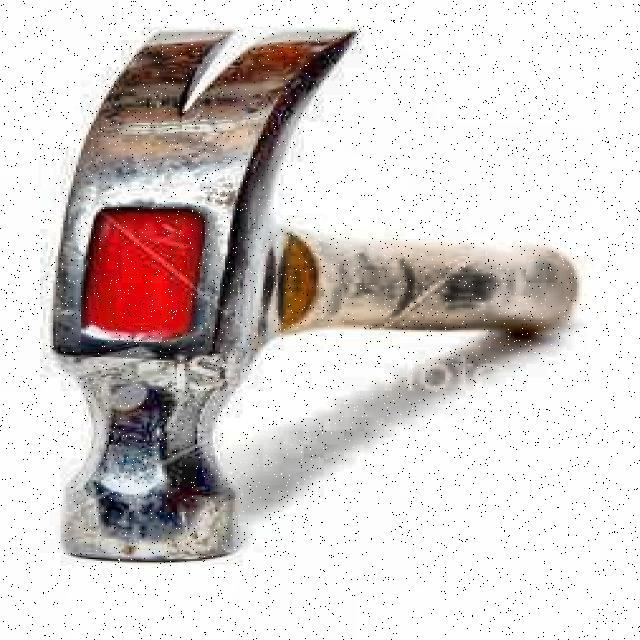hammer: (47, 27, 581, 563)
